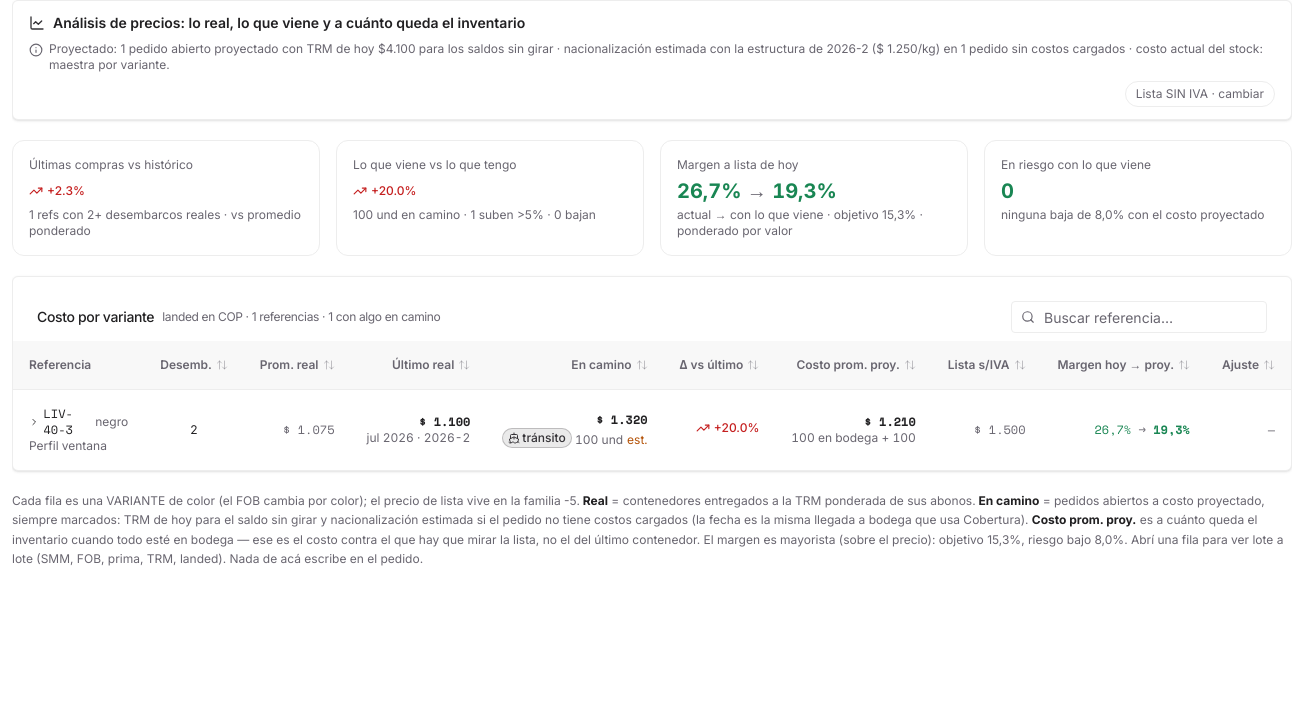
ImportPriceAnalysis — real, proyectado y costo del inventario › pinta KPIs, la fila con costo proyectado y margen, y el detalle lote a lote al abrir
This screenshot has width=1292, height=720.
Expected: the text "Lo que viene vs lo que tengo" is shown, [353, 157, 516, 172]
Expected: the text "Margen a lista de hoy" is shown, [677, 157, 799, 172]
// Abrir la fila → detalle lote a lote con la TRM "hoy" marcada.
Click the text "LIV-40-3": click(112, 421) [29, 406, 128, 438]
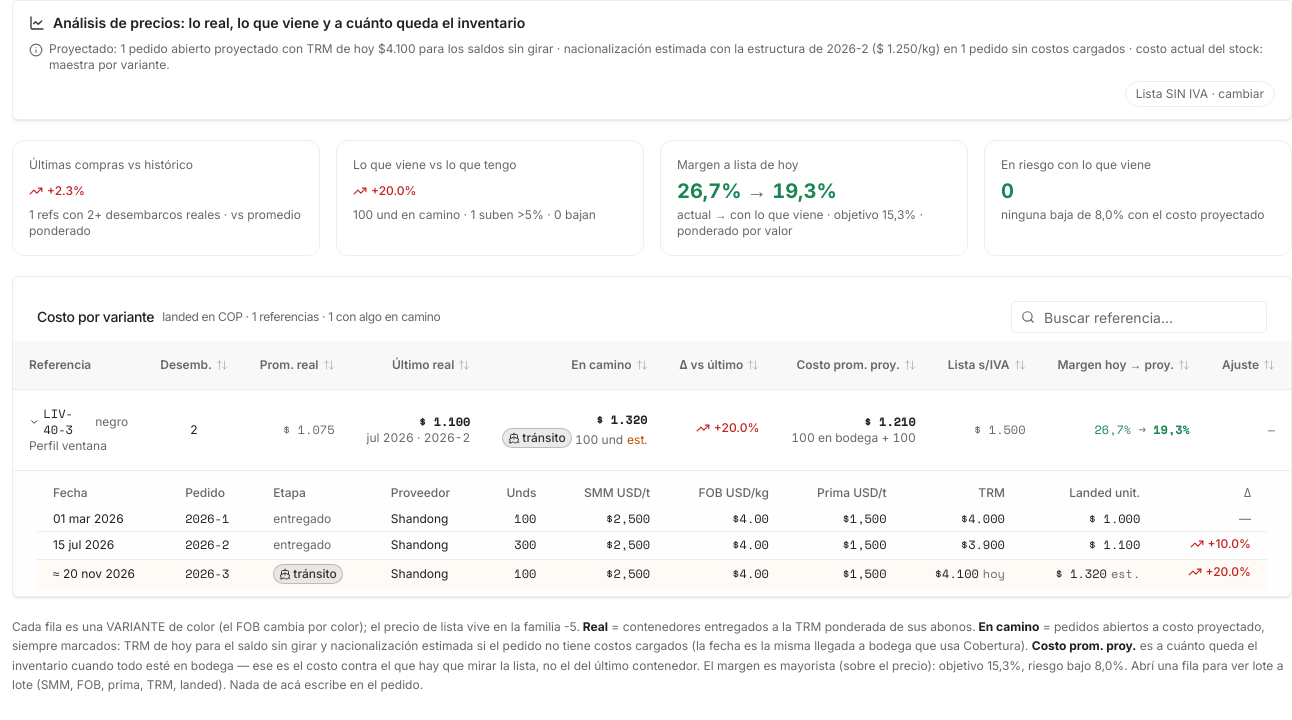
Expected: the column heading "Landed unit." is shown, [1021, 478, 1156, 506]
Expected: the text "hoy" is shown, [983, 564, 1005, 582]
Expected: the text "2026-3" is shown, [169, 559, 257, 588]
